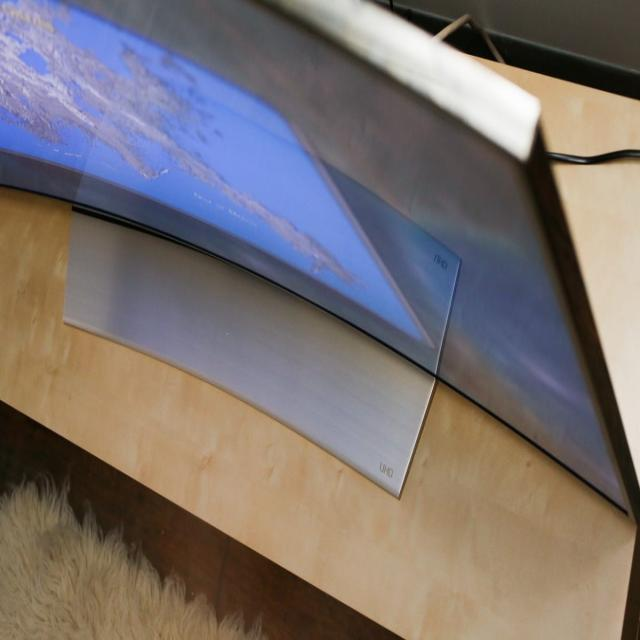electronics: (2, 2, 459, 494), (0, 2, 459, 371), (64, 212, 435, 495), (374, 0, 639, 96), (446, 30, 497, 57), (6, 176, 11, 180), (476, 21, 477, 23), (13, 181, 14, 183), (498, 52, 498, 55)
